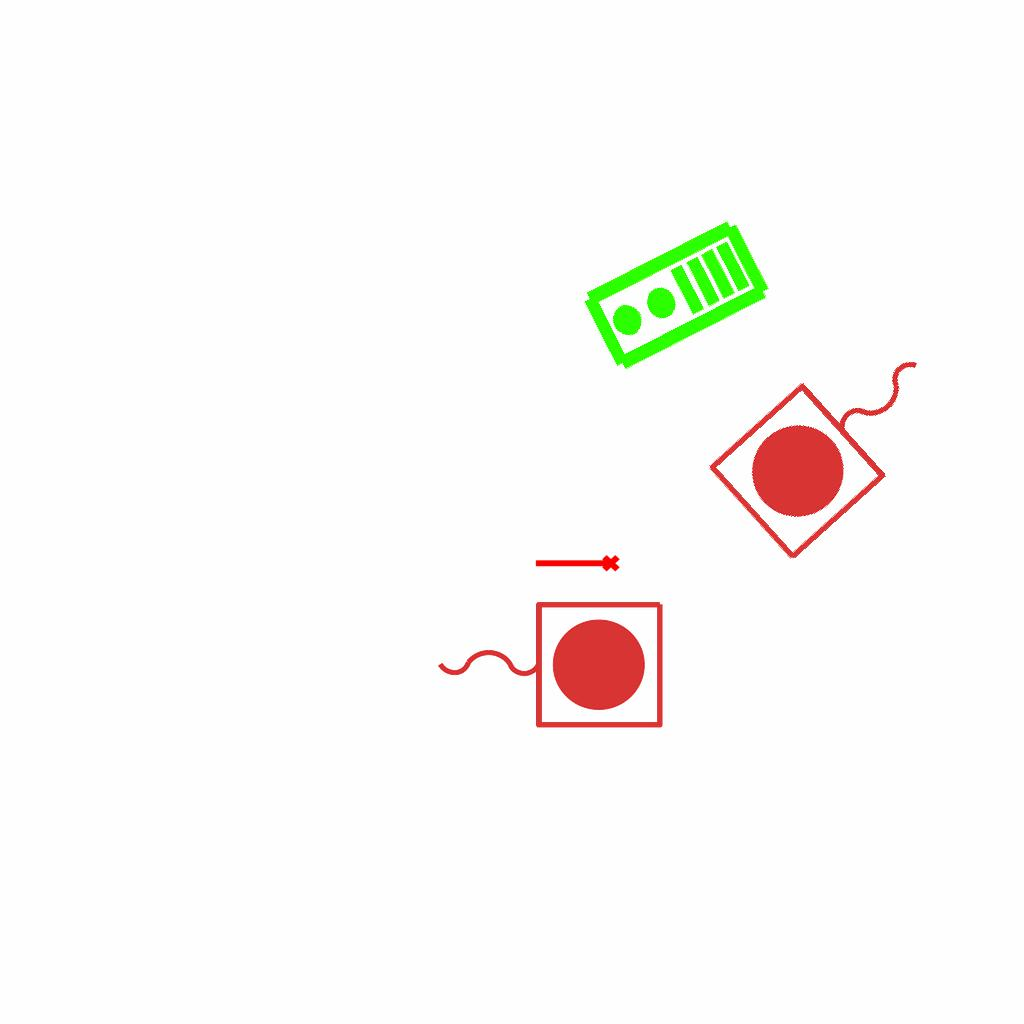ASR_Ansaugoeffnung: (533, 553, 621, 576)
Gegensprechanlage_mit_Video: (576, 214, 777, 380)
Zugtaster: (697, 303, 975, 575), (427, 591, 671, 735)
